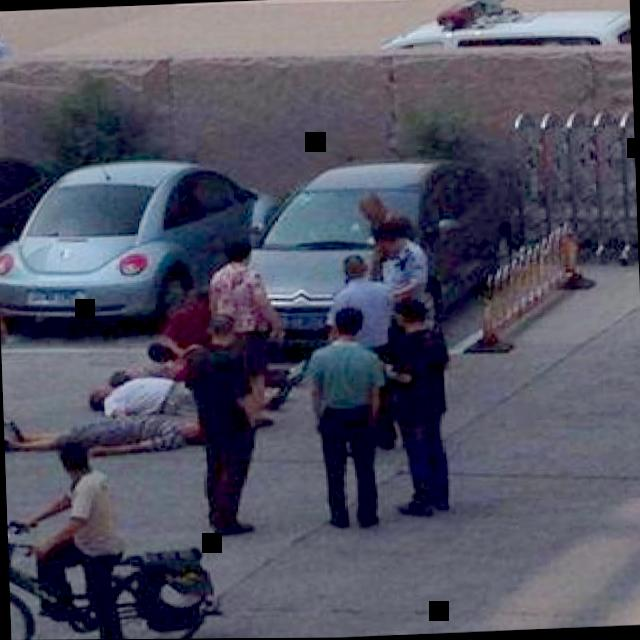Fall-Detected: (3, 397, 211, 460)
